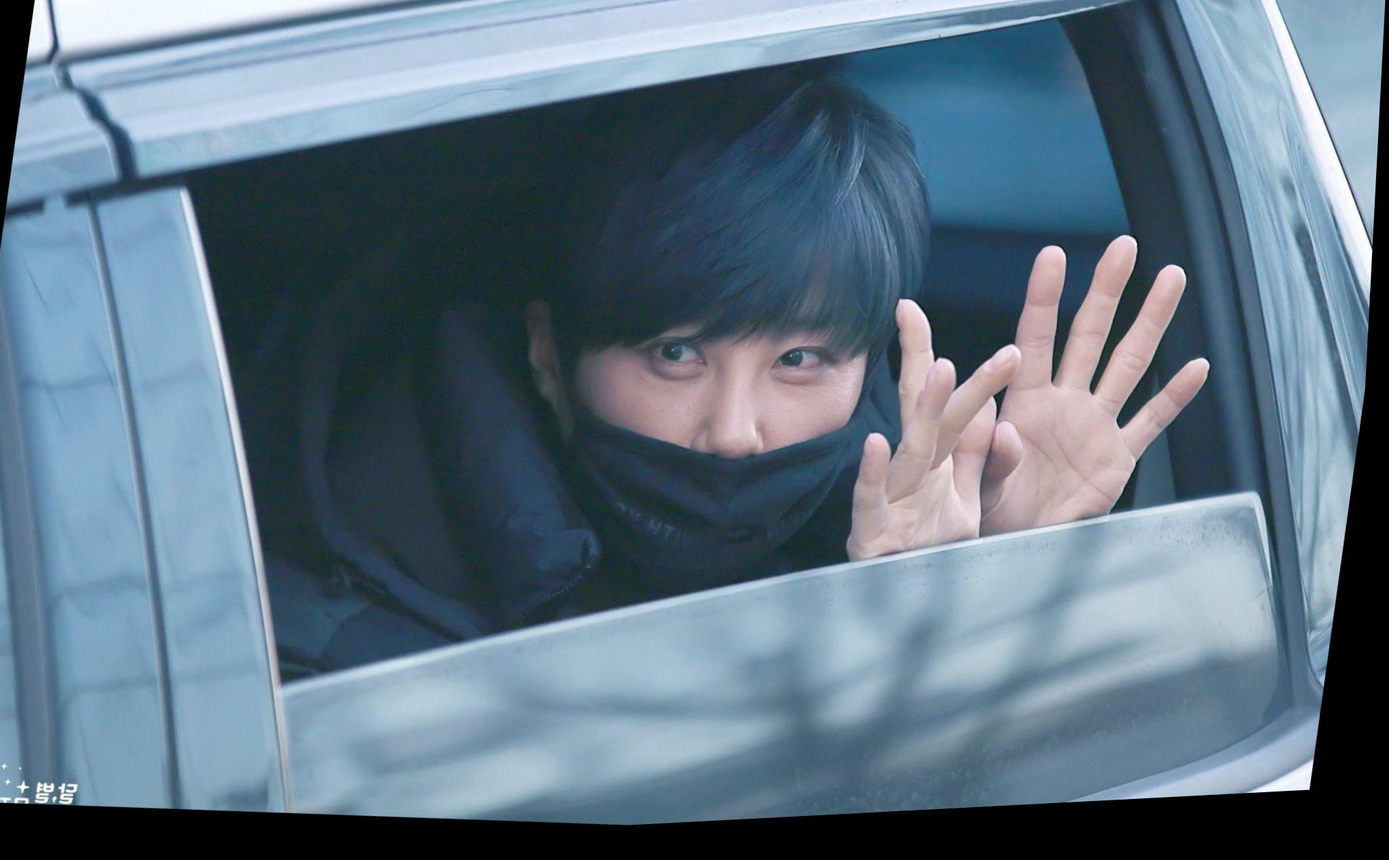WRONG: (527, 246, 901, 619)
